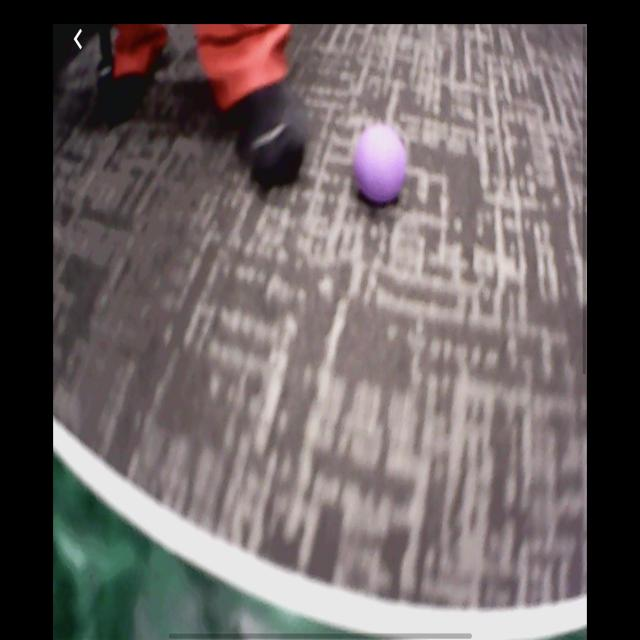ball: (355, 123, 408, 204)
